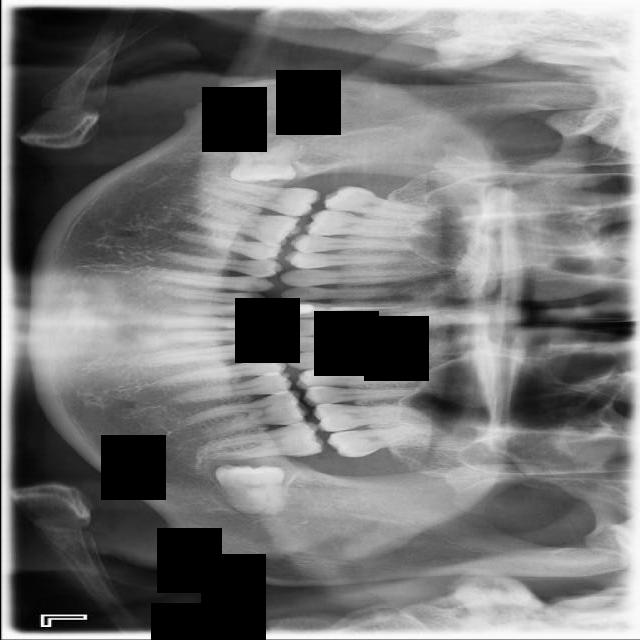52: (273, 299, 328, 320)
73: (306, 300, 413, 318), (36, 618, 44, 624)
BioHorizons Implant: (325, 420, 456, 461)
Biomet 3i Implant: (213, 464, 286, 516)
Blue Sky Bio Implant: (201, 419, 325, 472)
Caries: (321, 182, 443, 226)
Implant: (205, 178, 321, 219)
Keystone Dental Implant: (228, 135, 298, 184)
